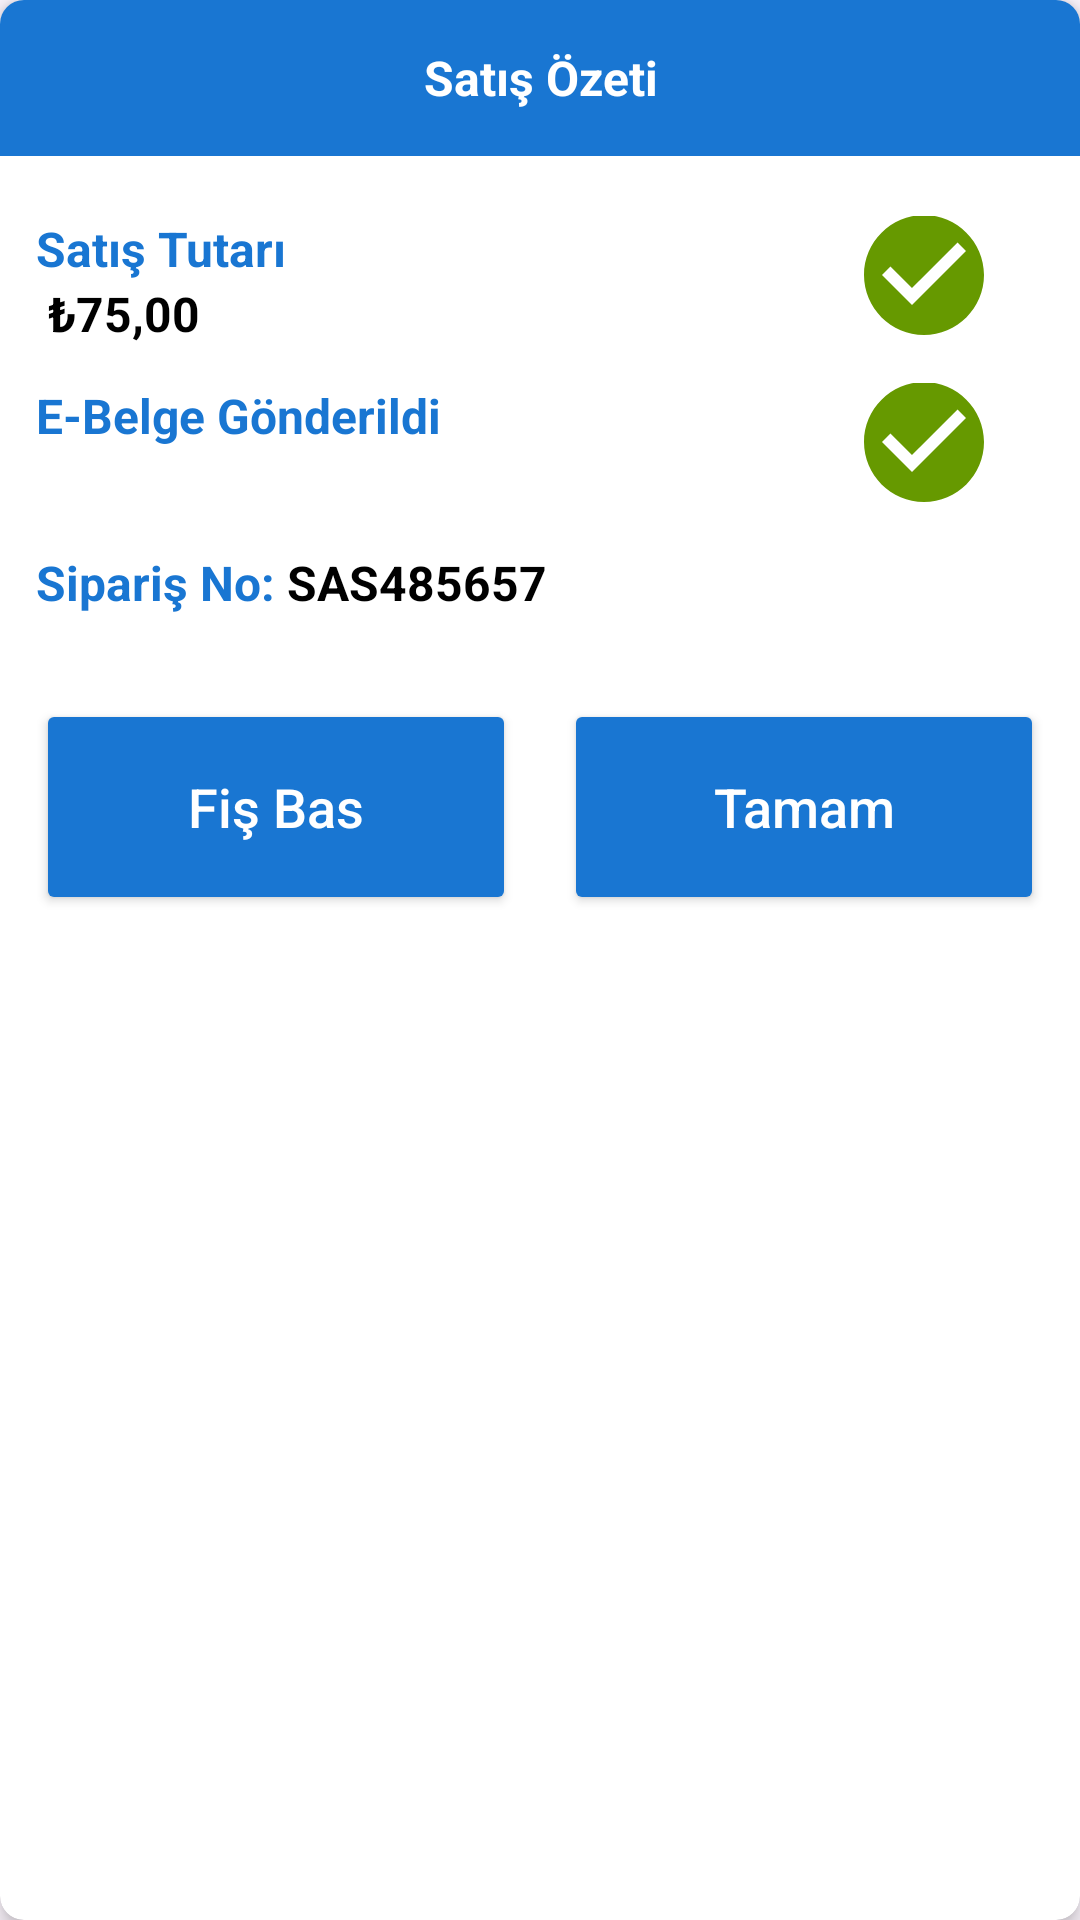

Where to tap for icons on this 1080w x 1920h app screen, as [x,y]:
check circle: [924,275], [924,442]
